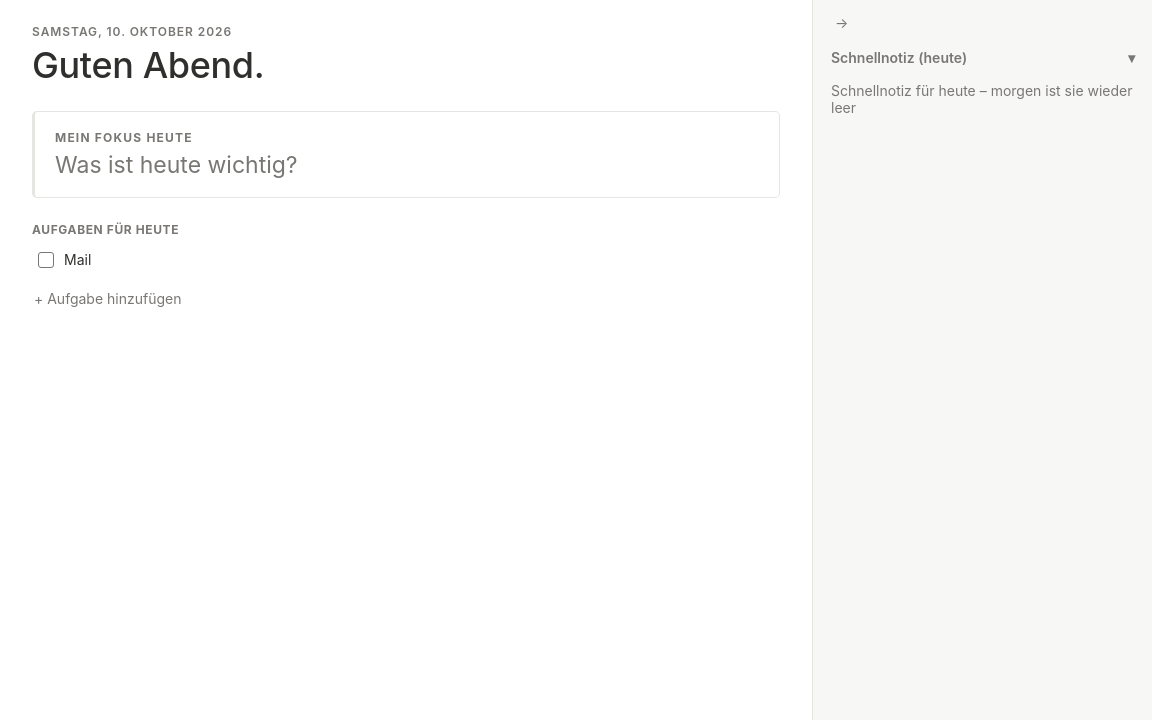
Schnellnotiz und Arbeitsnotiz › zeigt den gespeicherten Text wieder, wenn man zwischendurch eine Aufgabe ansieht
In the text box labelled "Schnellnotiz": [983, 394] box [829,80,1137,708], type "Wichtiger Gedanke"
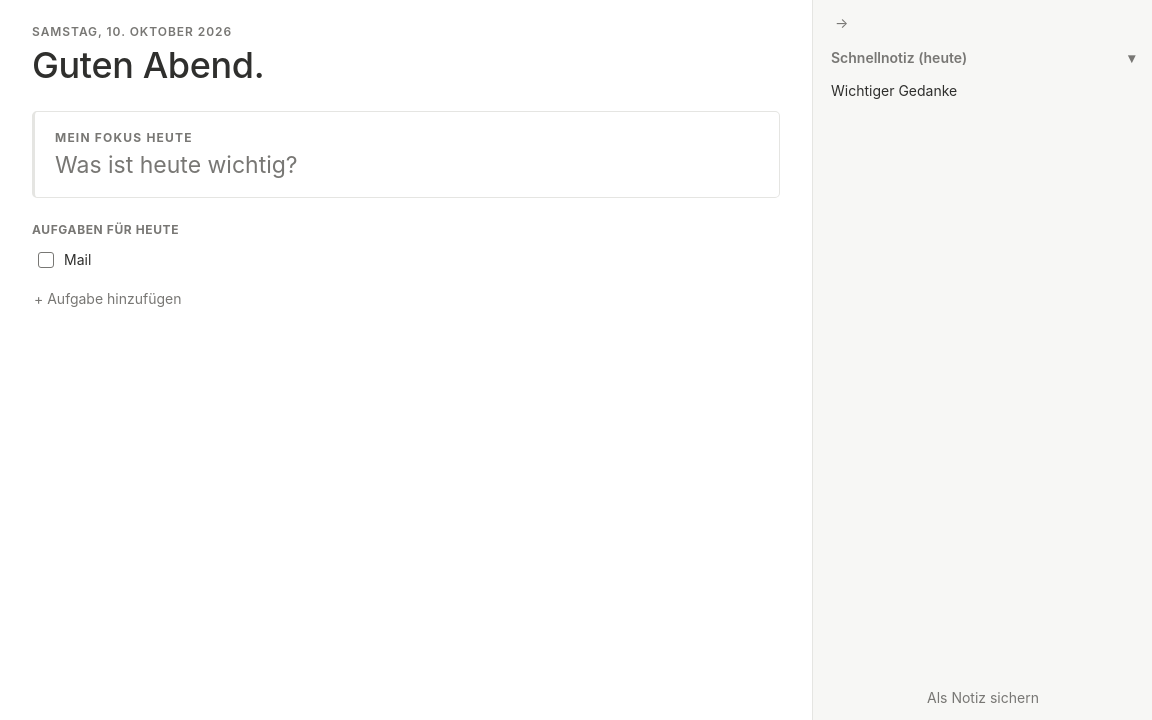
Click the button "Mail": [78, 260] box [64,249,774,270]
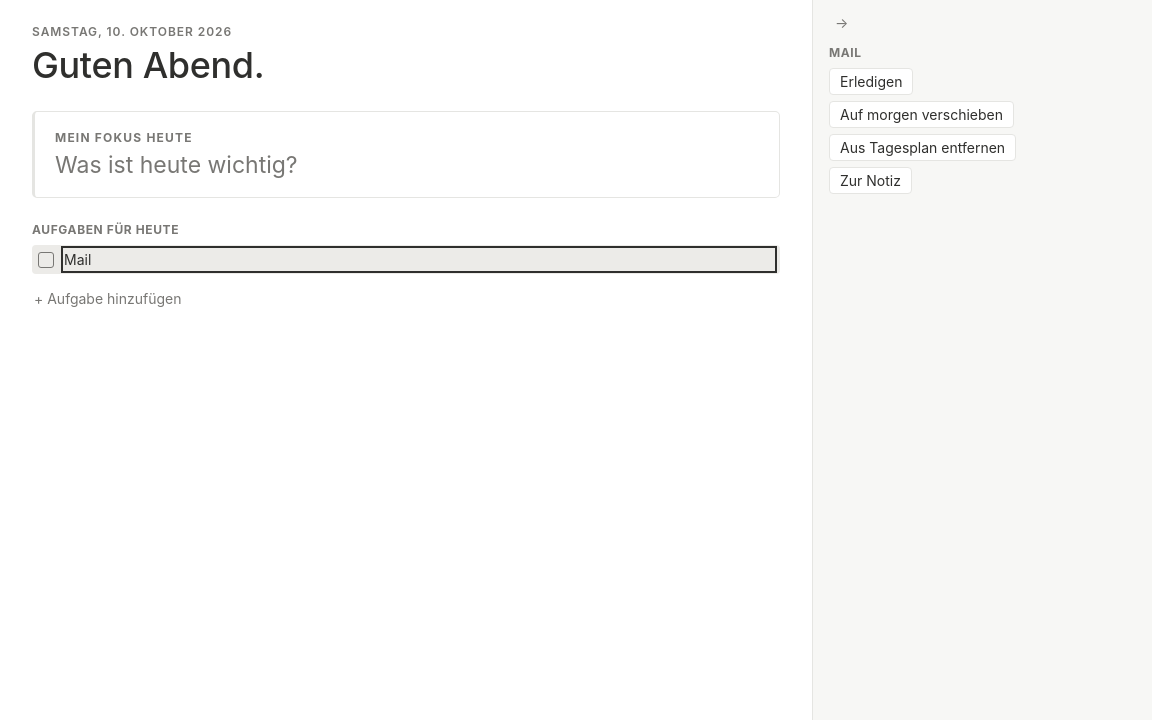
Click the button "Zur Notiz": [870, 180] box [829,167,912,194]
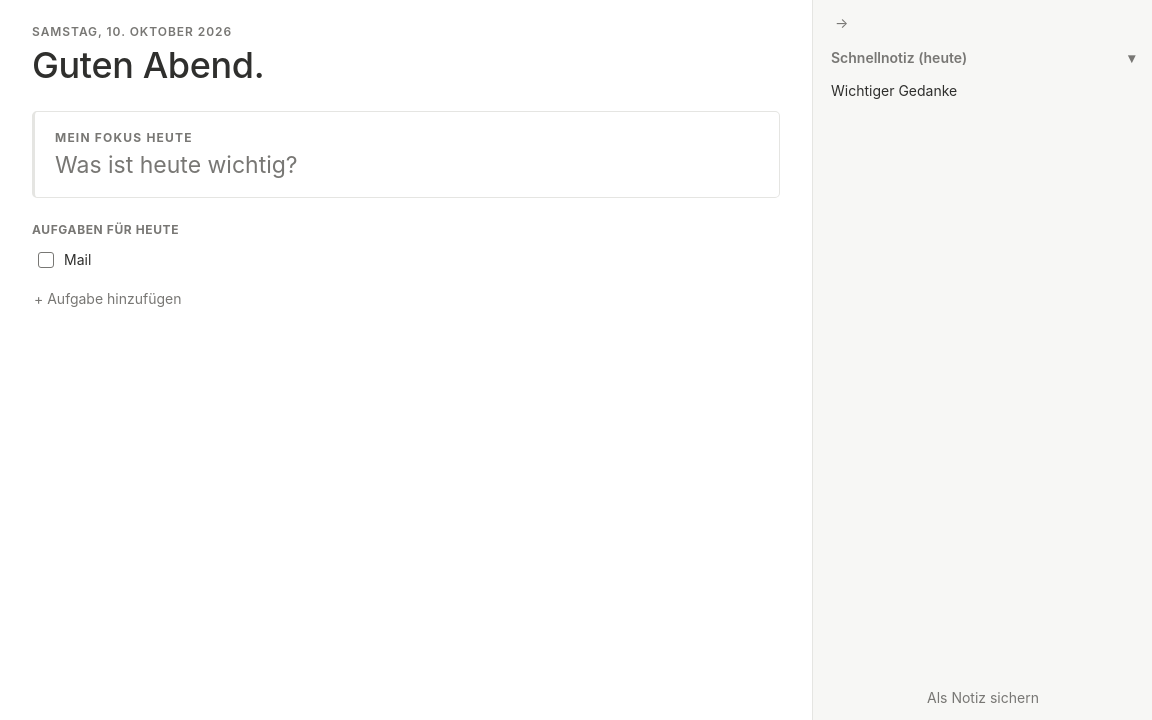
Expected: the text box named "Schnellnotiz" holds "Wichtiger Gedanke", [829,80,1137,677]
